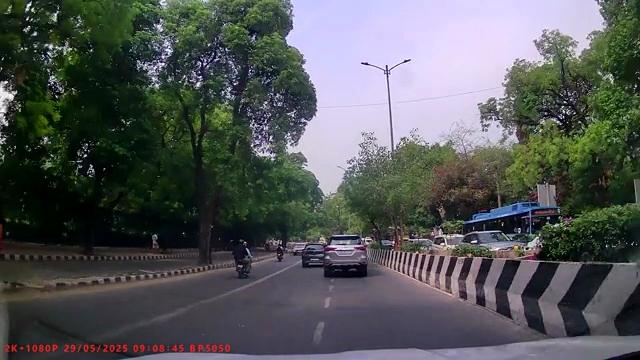passenger_with_helmet: (234, 238, 253, 279)
